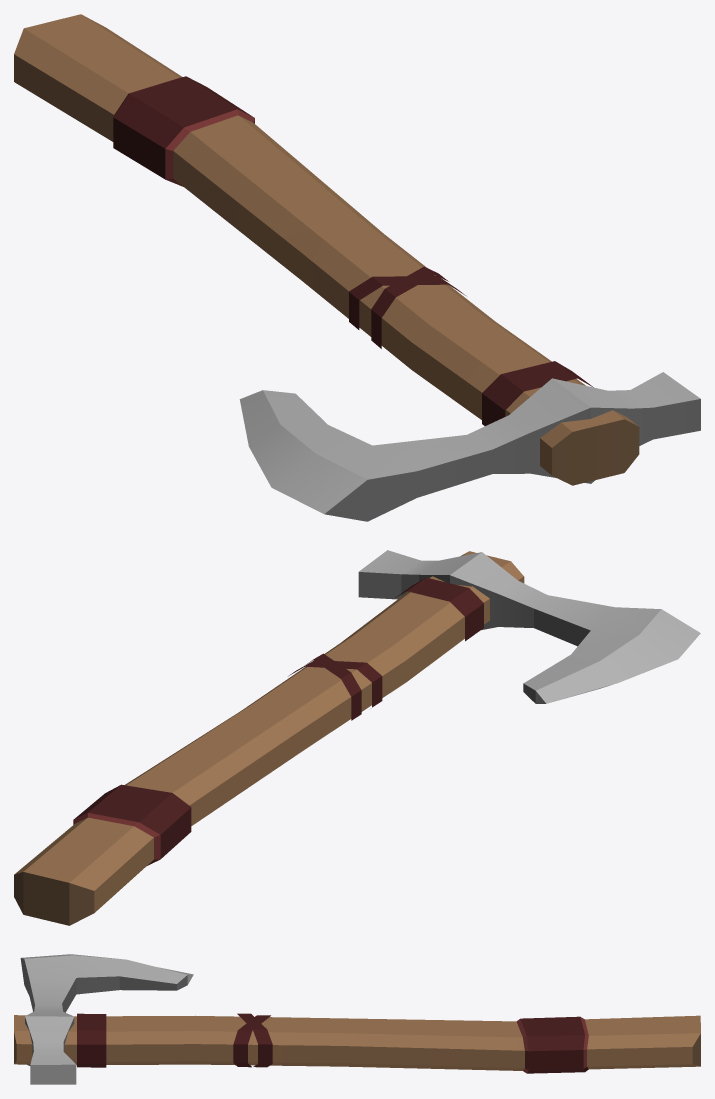
Rendered from Tomahawk_3D.glb.
3 views of the same model, one above another, from view 1: azimuth 30°, elevation 25°; view 2: azimuth 150°, elevation 25°; view 3: azimuth 270°, elevation 25° (orthographic). The views are drawn at different scales.
Visible parts, largest first — view 1: tomahawk (1); view 2: tomahawk (1); view 3: tomahawk (1).
Boxes of the visible parts, x1,y1,x2,y2 form: tomahawk (1): [14, 14, 700, 521]; tomahawk (1): [14, 550, 700, 925]; tomahawk (1): [14, 954, 700, 1084].
Size of the model in its own units: 0.2541 by 0.0468 by 0.6111.
Materials: 1 (1 with a texture image).
